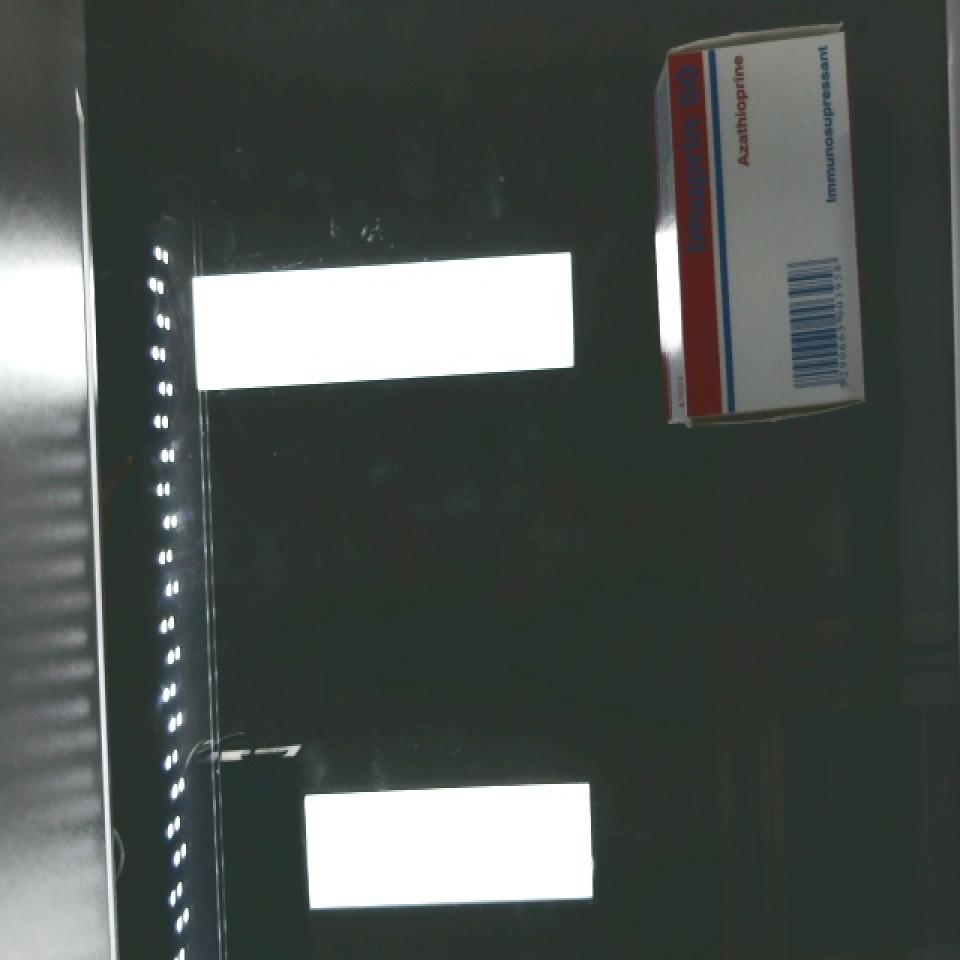medicine_box: (660, 23, 876, 417)
medicine_label_obb: (665, 40, 730, 271)
